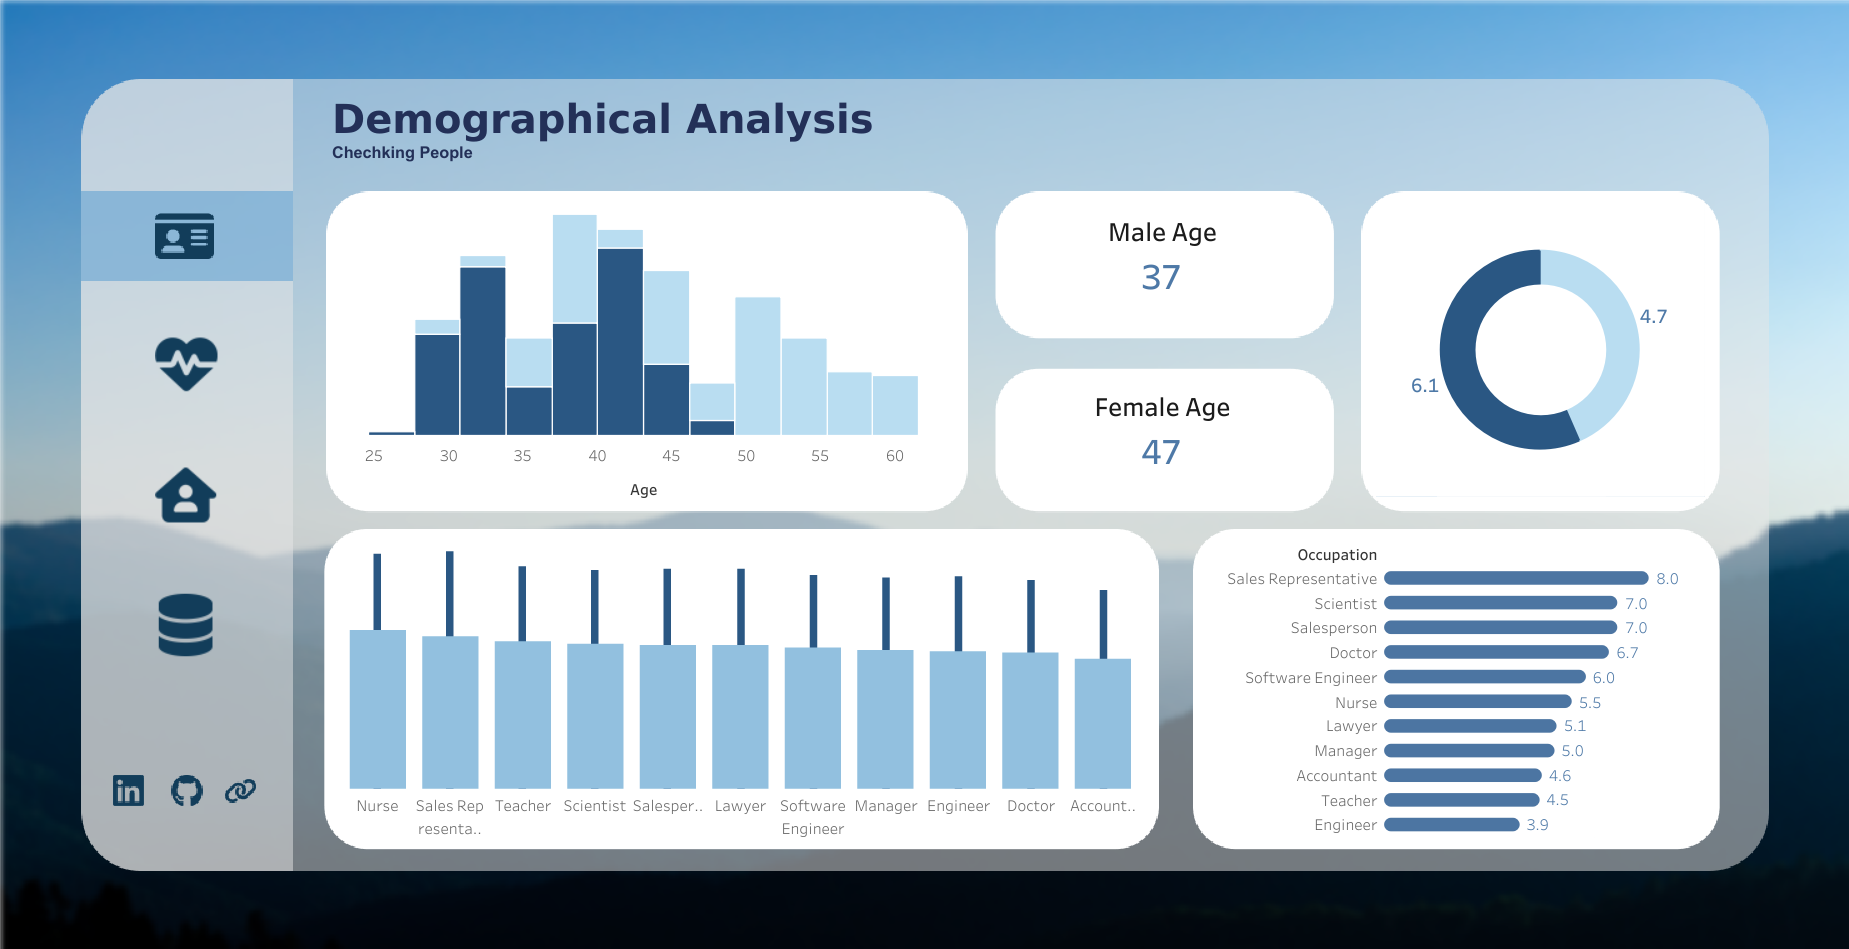

What the dashboard file says about the page in this screenshot:
{"tool":"tableau","page":{"name":"Demography","canvas":[1651,851],"ordinal":0},"visuals":[{"type":"image","param":"Image/bg-img1@4x.png","box":[0,0,1651,851]},{"type":"text","box":[491,110,1051,65]},{"type":"text","box":[224,202,231,89]},{"type":"worksheet","title":"Hist1","mark":"Bar","rows":["Age"],"cols":["Age (bin)"],"box":[503,207,423,237]},{"type":"worksheet","title":"Donut1","mark":"Pie","cols":["Calculation_1780610746995748867","Calculation_1780610746995748867"],"box":[1286,210,245,233]},{"type":"text","box":[984,217,243,44]},{"type":"worksheet","title":"KPI1","mark":"Automatic","box":[1069,243,77,63]},{"type":"dashboard-object","box":[128,330,60,60]},{"type":"text","box":[982,360,247,40]},{"type":"worksheet","title":"KPI2","mark":"Automatic","box":[1072,383,80,59]},{"type":"dashboard-object","box":[127,438,60,60]},{"type":"worksheet","title":"Bar1","mark":"Line","rows":["Occupation"],"box":[1135,495,391,240]},{"type":"worksheet","title":"DBar1","mark":"Bar","rows":["BP Low","BP High"],"cols":["Occupation"],"box":[501,496,572,235]},{"type":"image","param":"Image/LinkedIn@4x.png","box":[180,680,50,50]},{"type":"image","param":"Image/GitHub@4x.png","box":[267,680,50,50]},{"type":"image","param":"Image/BentoMe@4x.png","box":[349,680,50,50]}]}

Visuals, with their boxes on the page's 1651x851 design canvas (x1, y1, x2, y2). These are canvas units, not pixel positions in the 1849x949 screenshot, which may show the page scaled, cropped or inside an application window:
image: [0,0,1651,851]
text: [491,110,1542,175]
text: [224,202,455,291]
"Hist1" worksheet (Bar marks): [503,207,926,444]
"Donut1" worksheet (Pie marks): [1286,210,1531,443]
text: [984,217,1227,261]
"KPI1" worksheet: [1069,243,1146,306]
dashboard-object: [128,330,188,390]
text: [982,360,1229,400]
"KPI2" worksheet: [1072,383,1152,442]
dashboard-object: [127,438,187,498]
"Bar1" worksheet (Line marks): [1135,495,1526,735]
"DBar1" worksheet (Bar marks): [501,496,1073,731]
image: [180,680,230,730]
image: [267,680,317,730]
image: [349,680,399,730]
